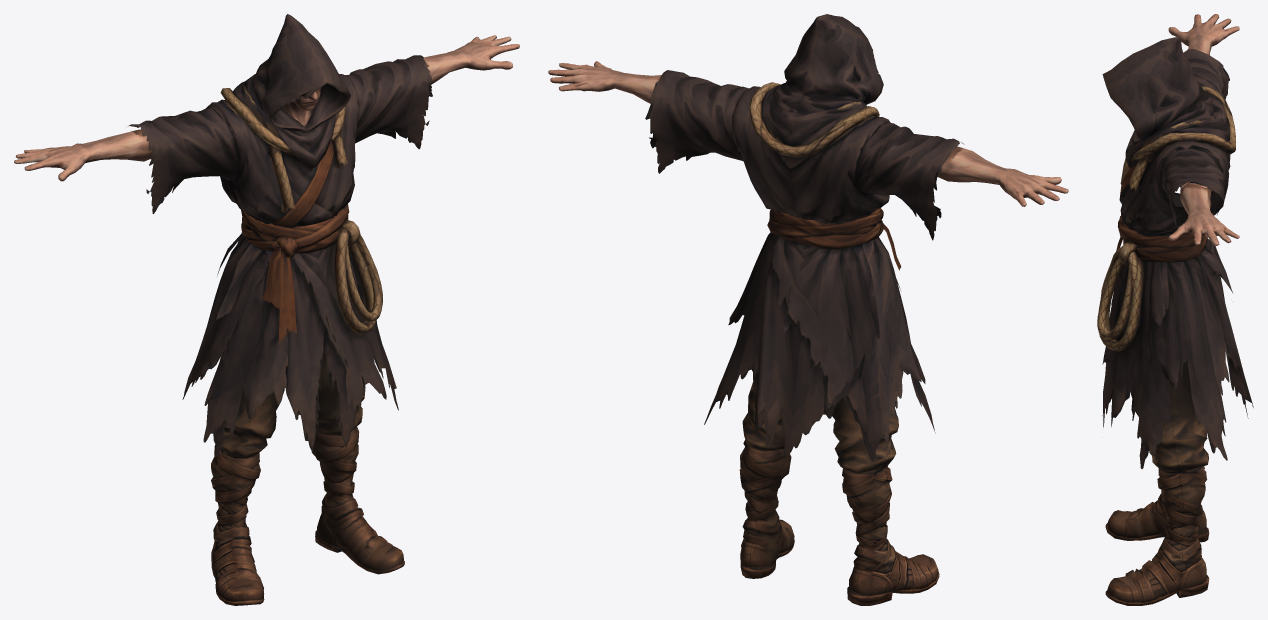
File: F01_body_snatcher.glb
3 views of the same model, side by side, from view 1: azimuth 30°, elevation 25°; view 2: azimuth 150°, elevation 25°; view 3: azimuth 270°, elevation 25° (orthographic). The views are drawn at different scales.
Visible parts, largest first — view 1: tripo_326d0c88_518d_4d88_8f8e_0b5e08f5b298; view 2: tripo_326d0c88_518d_4d88_8f8e_0b5e08f5b298; view 3: tripo_326d0c88_518d_4d88_8f8e_0b5e08f5b298.
Boxes of the visible parts, x1,y1,x2,y2 form: tripo_326d0c88_518d_4d88_8f8e_0b5e08f5b298: [14, 14, 519, 605]; tripo_326d0c88_518d_4d88_8f8e_0b5e08f5b298: [548, 14, 1068, 605]; tripo_326d0c88_518d_4d88_8f8e_0b5e08f5b298: [1097, 14, 1253, 605].
Bounding box in the file's own units: 0.9438 × 0.9995 × 0.2681.
Materials: 1 (1 with a texture image).
